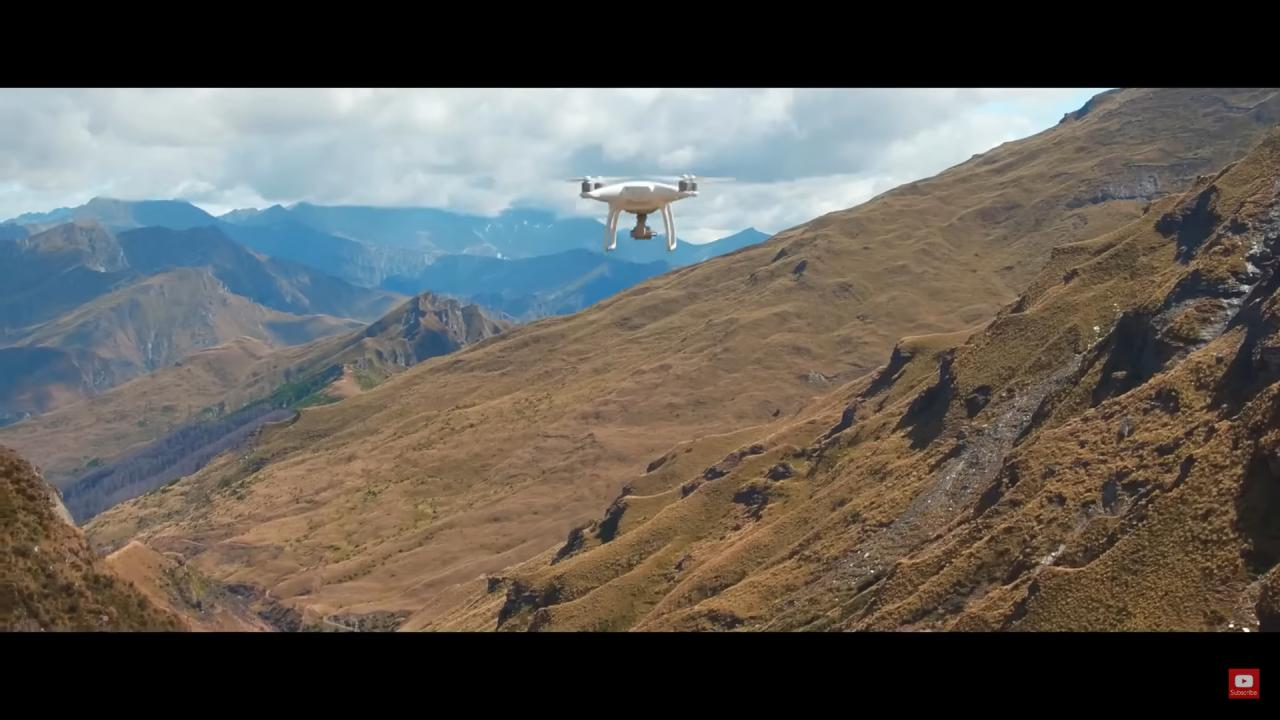Drone: (538, 160, 739, 259)
